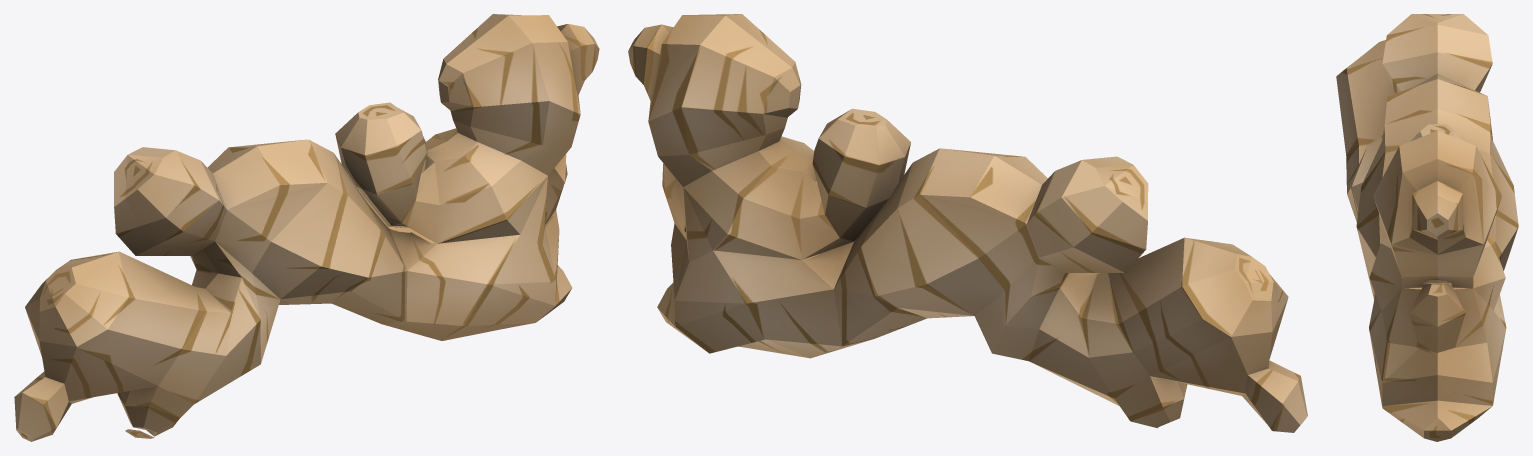
File: Ginger root.glb
3 renders of one model, left to right at view 1: azimuth 30°, elevation 25°; view 2: azimuth 150°, elevation 25°; view 3: azimuth 270°, elevation 25°, orthographic. The views are drawn at different scales.
Parts seen in each view (by area): view 1: GingerRoot_mesh; view 2: GingerRoot_mesh; view 3: GingerRoot_mesh.
Part boxes in pixels (<box>): GingerRoot_mesh: <box>14,14,599,441</box>; GingerRoot_mesh: <box>628,14,1307,432</box>; GingerRoot_mesh: <box>1336,14,1518,441</box>.
Size of the model in its own units: 18.24 by 9.11 by 4.92.
1 material, 1 textured.
